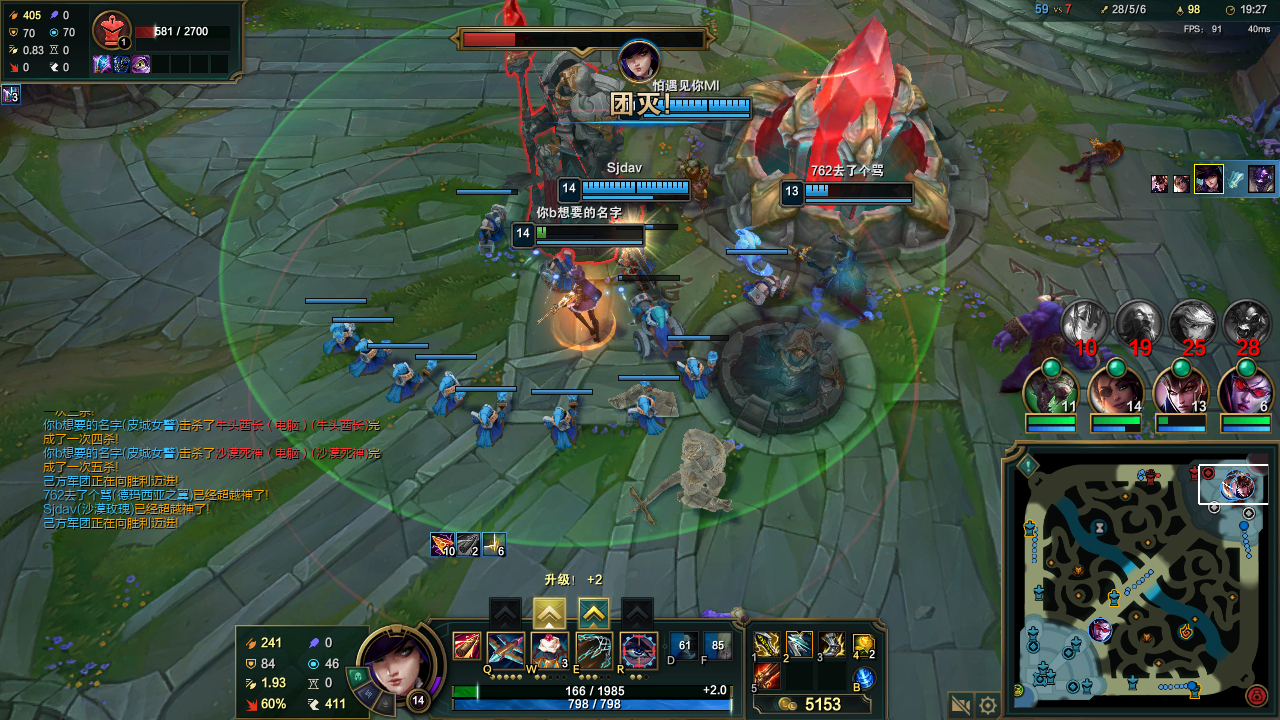DFDSJ: (718, 45, 969, 253)
DFFYT: (461, 32, 632, 244)
Shenji: (583, 605, 605, 623)
Tuijianshengji: (538, 600, 563, 621)
WFXB: (622, 298, 678, 350), (471, 197, 516, 257), (533, 394, 590, 441), (462, 394, 512, 443), (425, 362, 467, 418), (675, 350, 717, 405), (738, 270, 788, 309), (384, 358, 425, 397), (354, 330, 391, 373), (628, 395, 661, 434), (326, 323, 358, 357)
